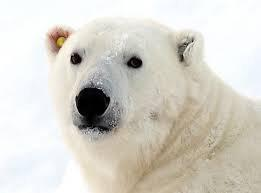bear: (32, 11, 261, 193)
